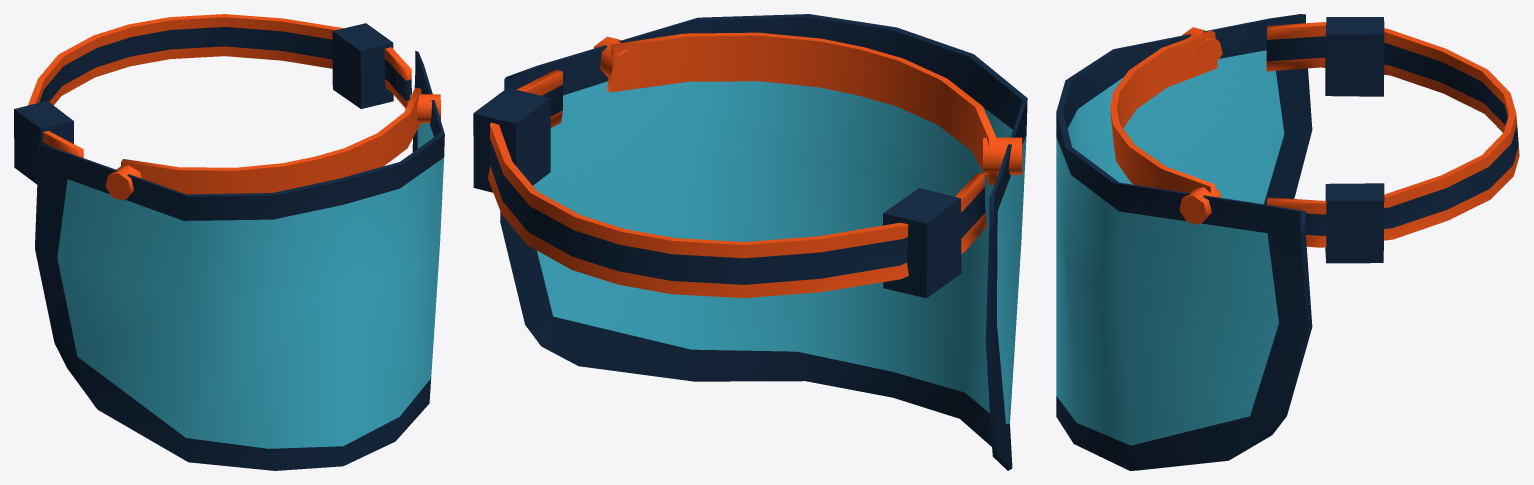
The model's file is Mask.fbx.
3 renders of one model, left to right at view 1: azimuth 30°, elevation 25°; view 2: azimuth 150°, elevation 25°; view 3: azimuth 270°, elevation 25°, orthographic. The views are drawn at different scales.
Visible parts, largest first — view 1: Mask.c, Mask; view 2: Mask.c, Mask; view 3: Mask.c, Mask.
Boxes of the visible parts, x1,y1,x2,y2 form: Mask.c: (35, 50, 444, 470); Mask: (14, 14, 411, 184); Mask.c: (500, 14, 1027, 470); Mask: (473, 69, 986, 298); Mask.c: (1056, 14, 1312, 470); Mask: (1266, 17, 1519, 263).
Bounding box in the file's own units: 0.6922 × 0.5033 × 0.684.
